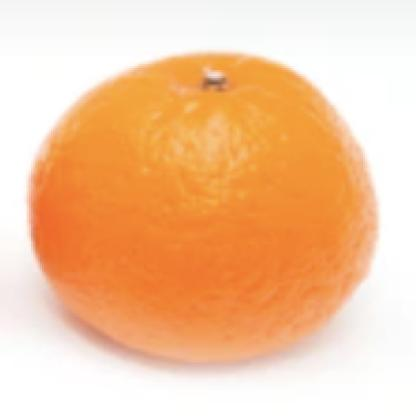fresh: (30, 49, 376, 364)
